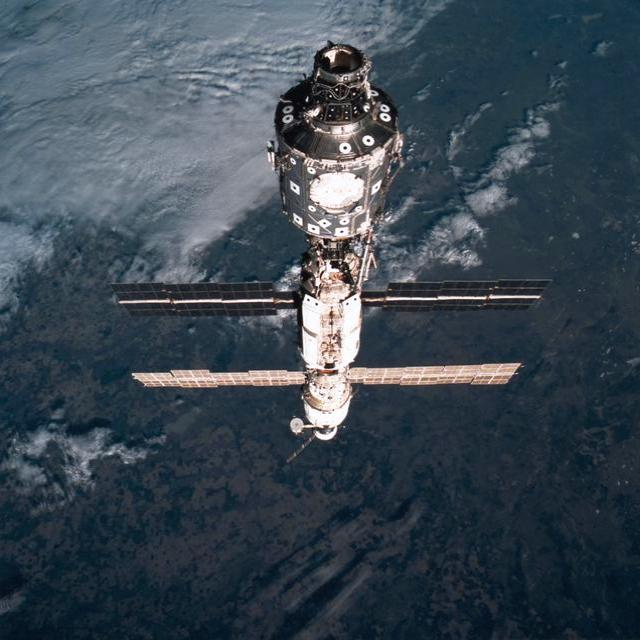satellite: (113, 42, 549, 441)
